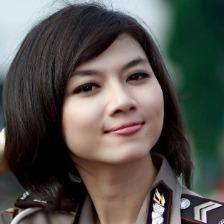Non hijab: (1, 2, 196, 219)
